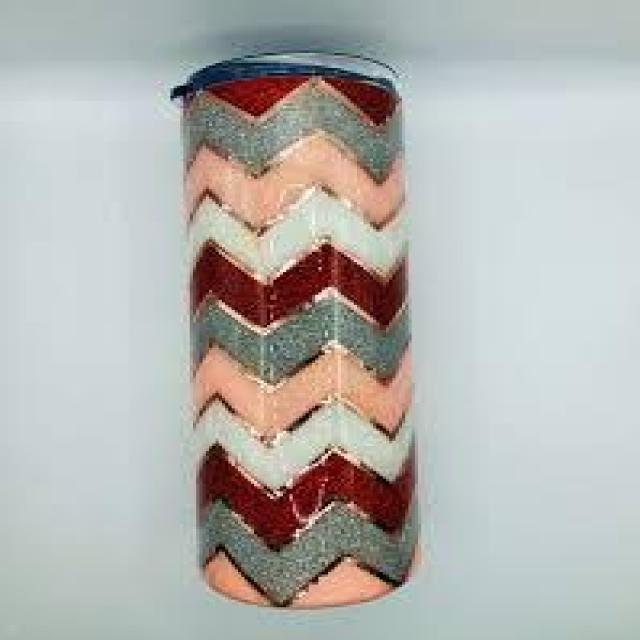bottle: (174, 49, 412, 611)
